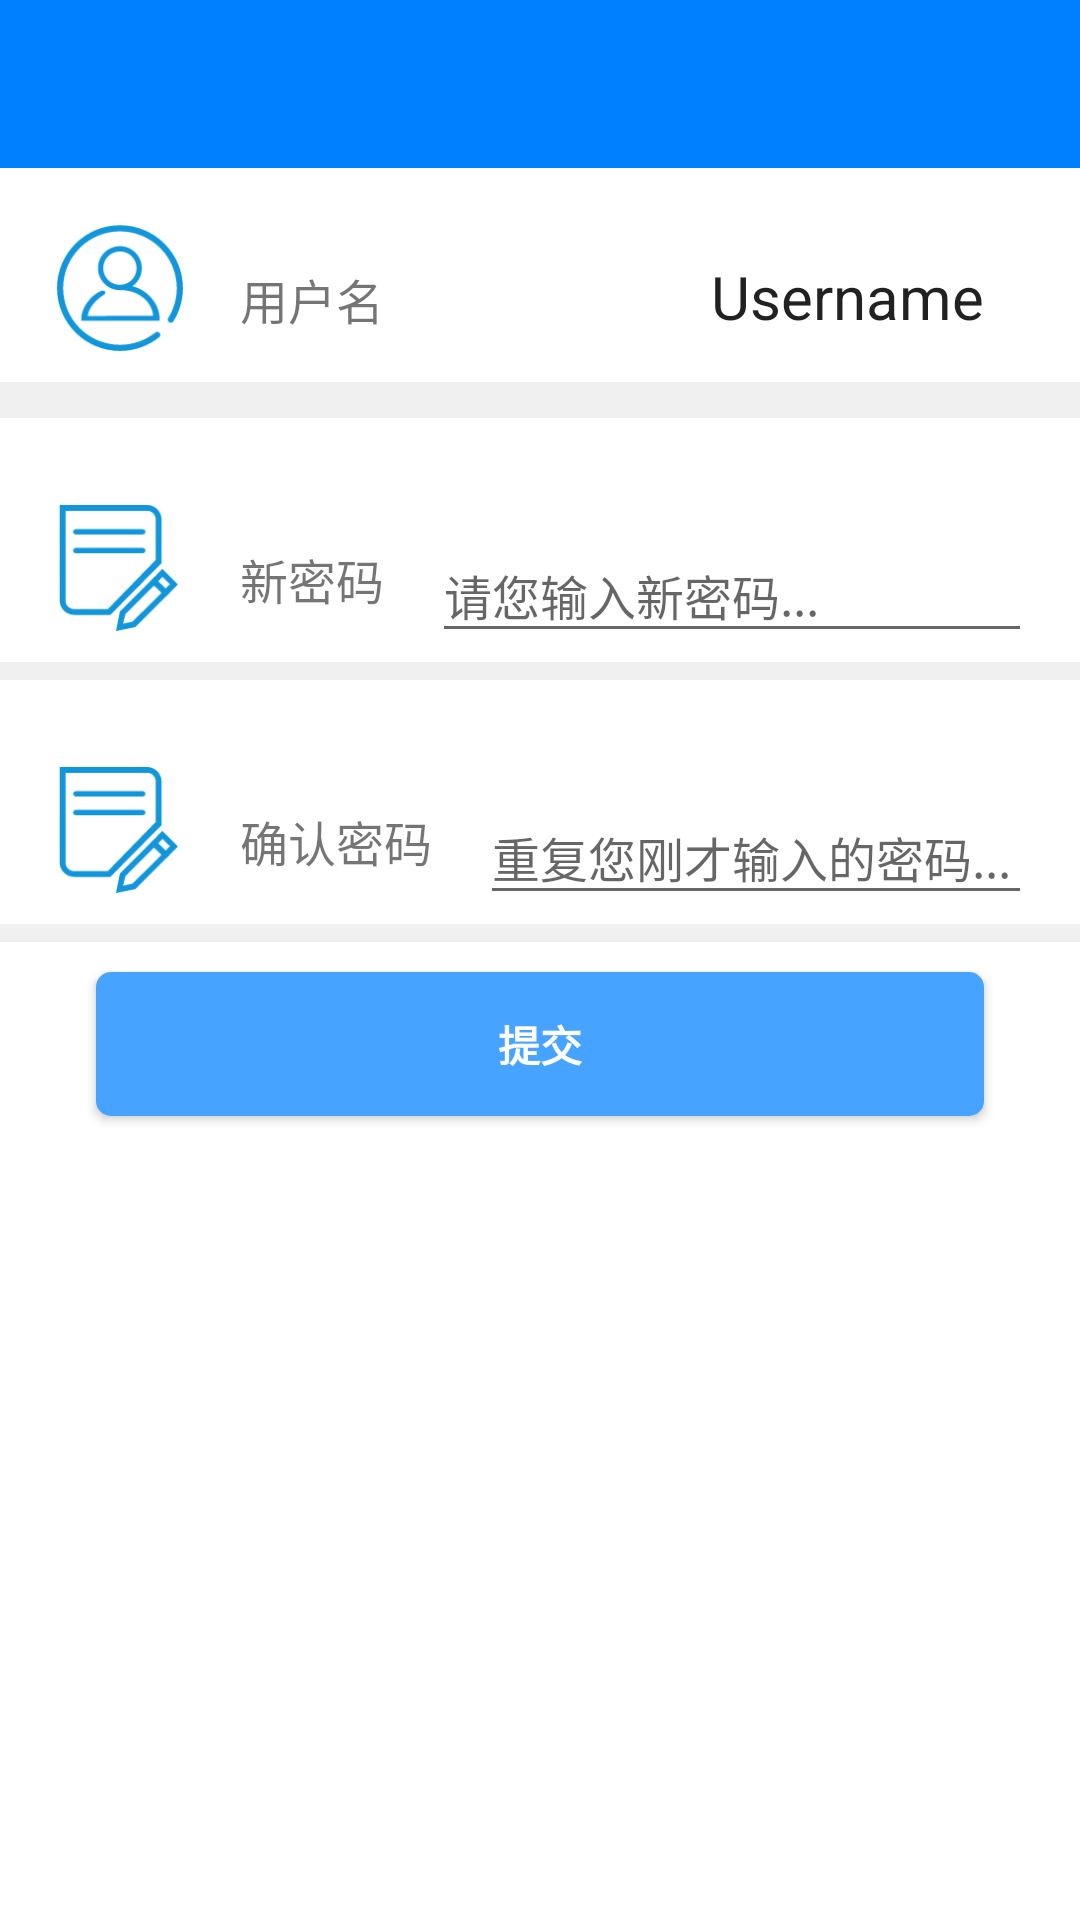

Named icons in this screenshot (1080x1920) and their centers, [x,y]:
edit: [118,568], [118,830]
personal center: [120,288]
